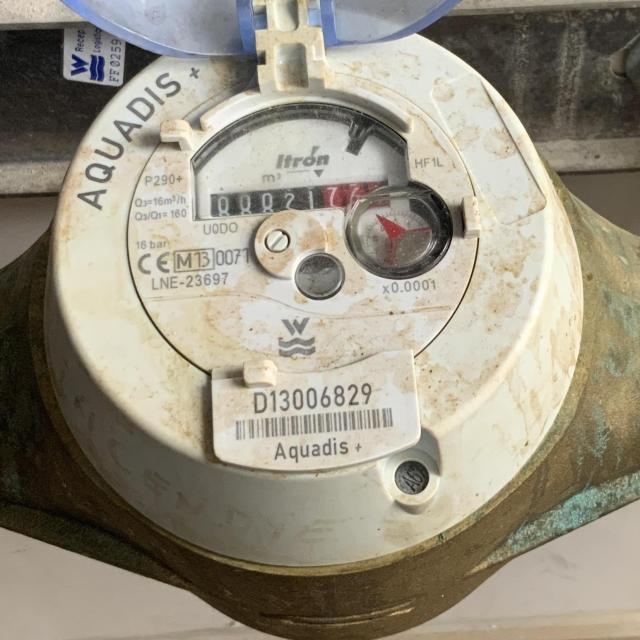gaz_meter: (71, 41, 550, 481)
indication: (209, 178, 395, 222)
